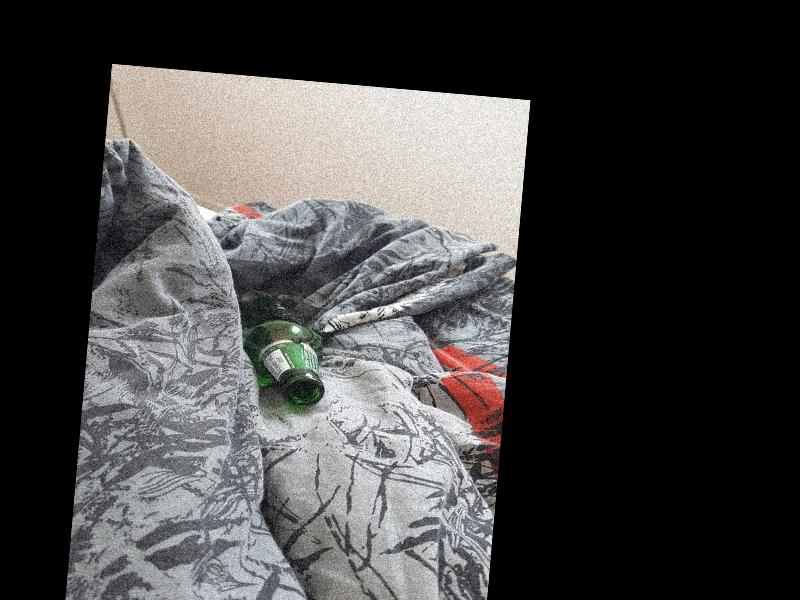Beer: (239, 298, 328, 407)
